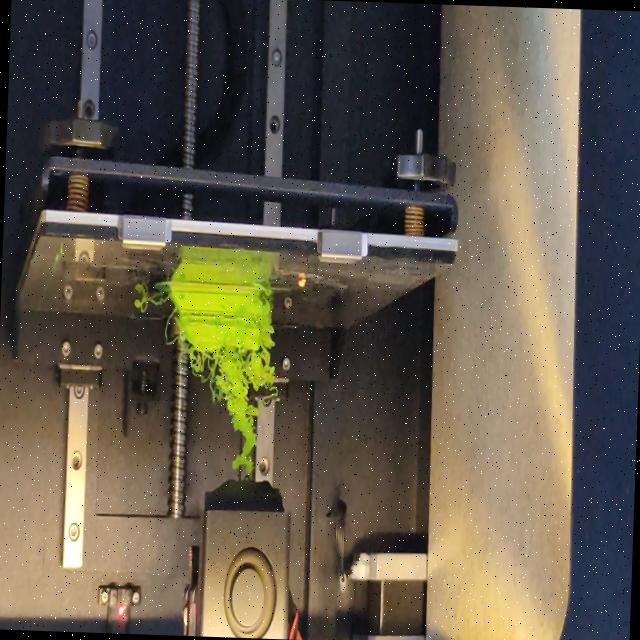spaghetti: (185, 344, 276, 478), (259, 282, 276, 341), (130, 288, 170, 310), (164, 307, 178, 352)
